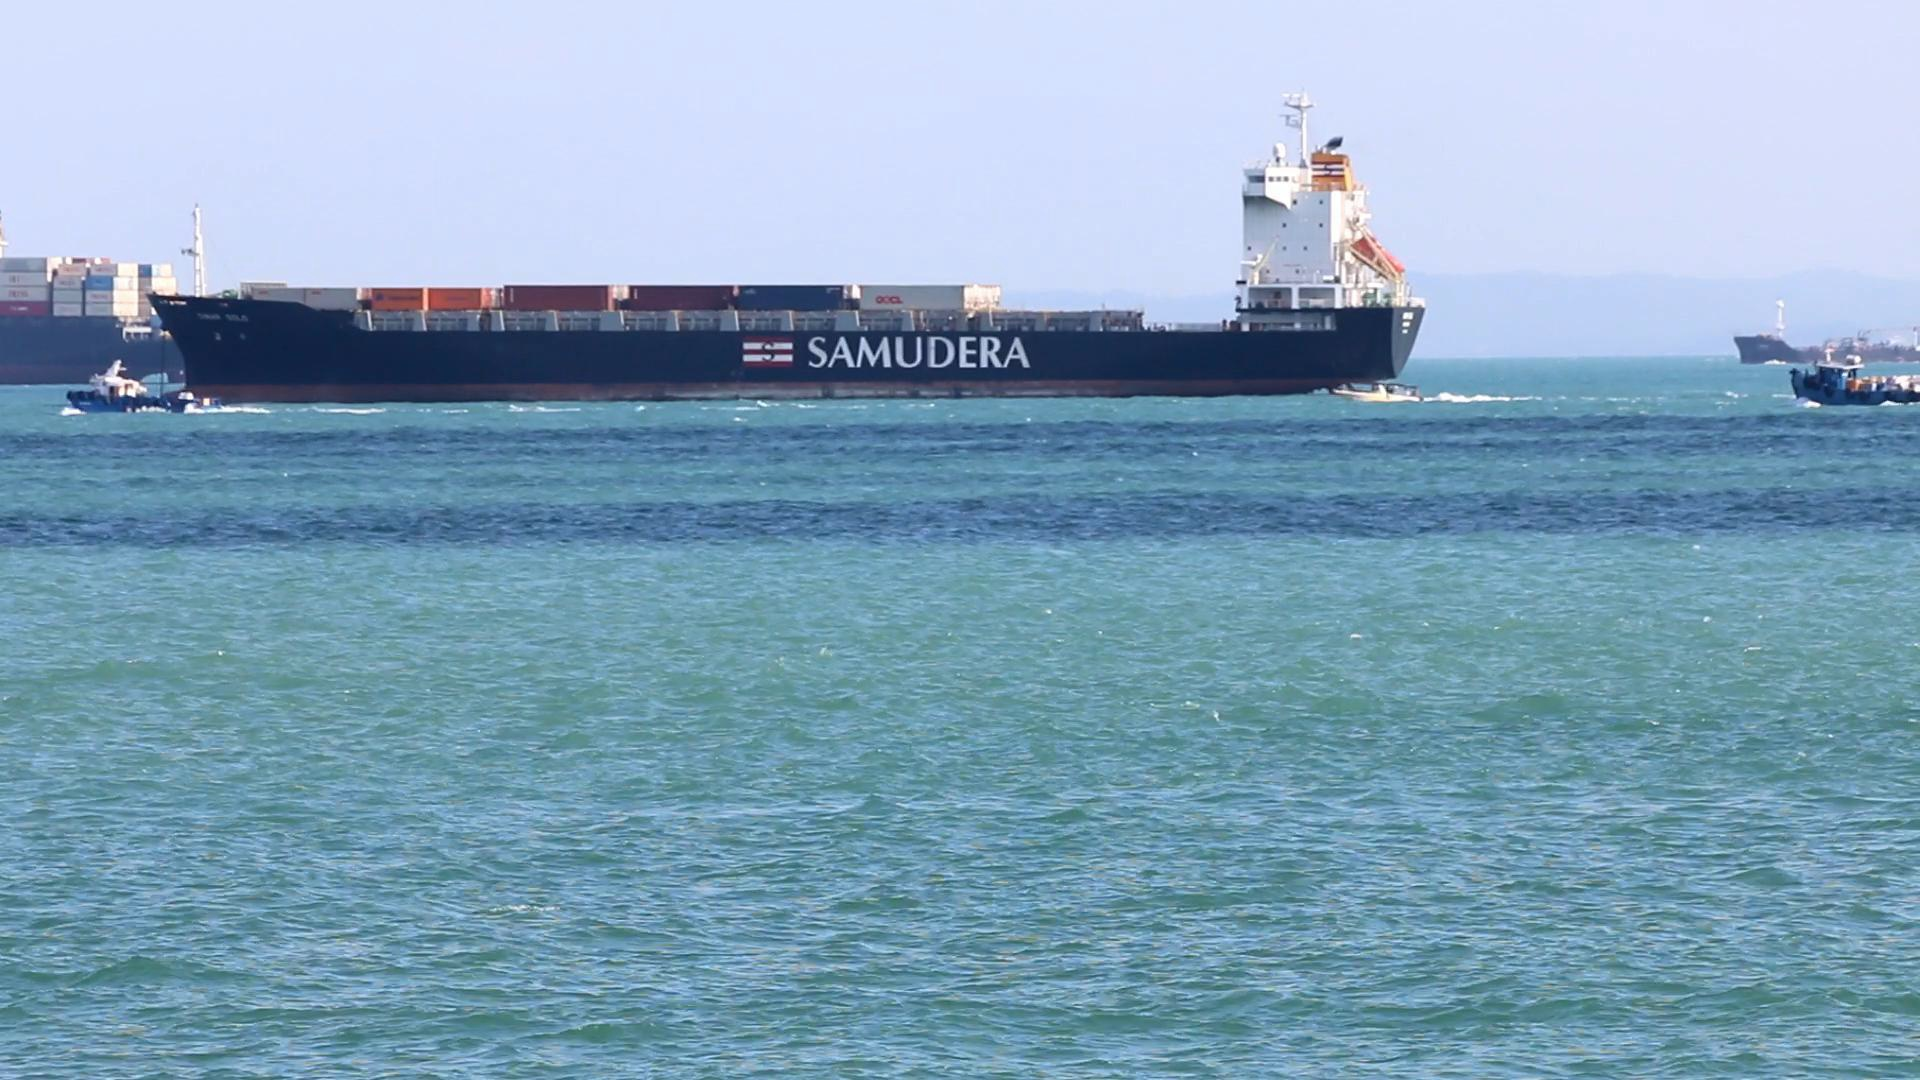Container Ship: (148, 84, 1429, 404), (1, 251, 177, 385)
